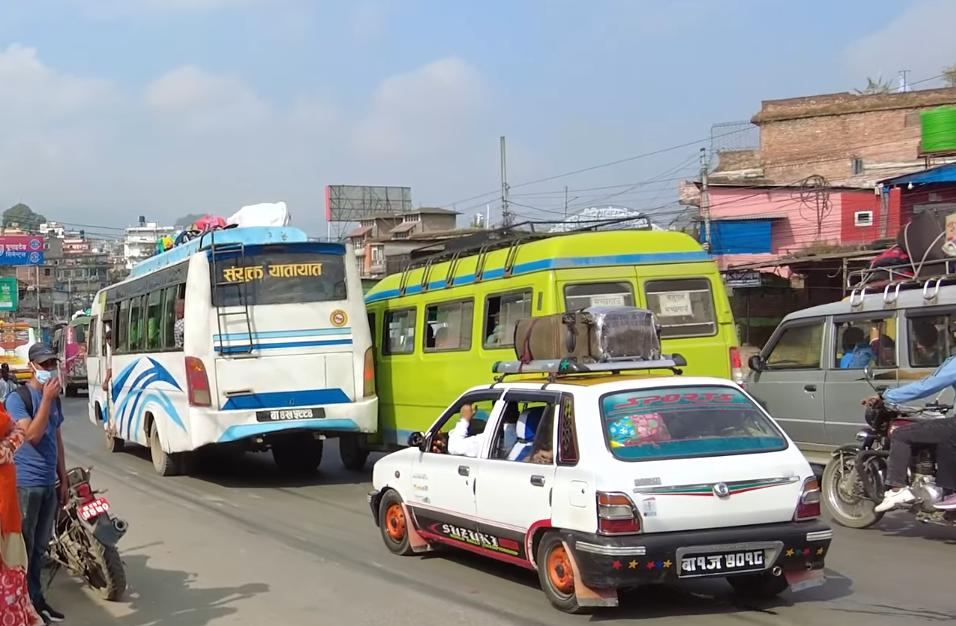bike: (820, 355, 956, 545)
bus: (68, 217, 387, 478), (53, 309, 98, 399), (0, 317, 48, 387)
micro_bus: (333, 213, 751, 462)
taxi: (355, 340, 827, 613)
